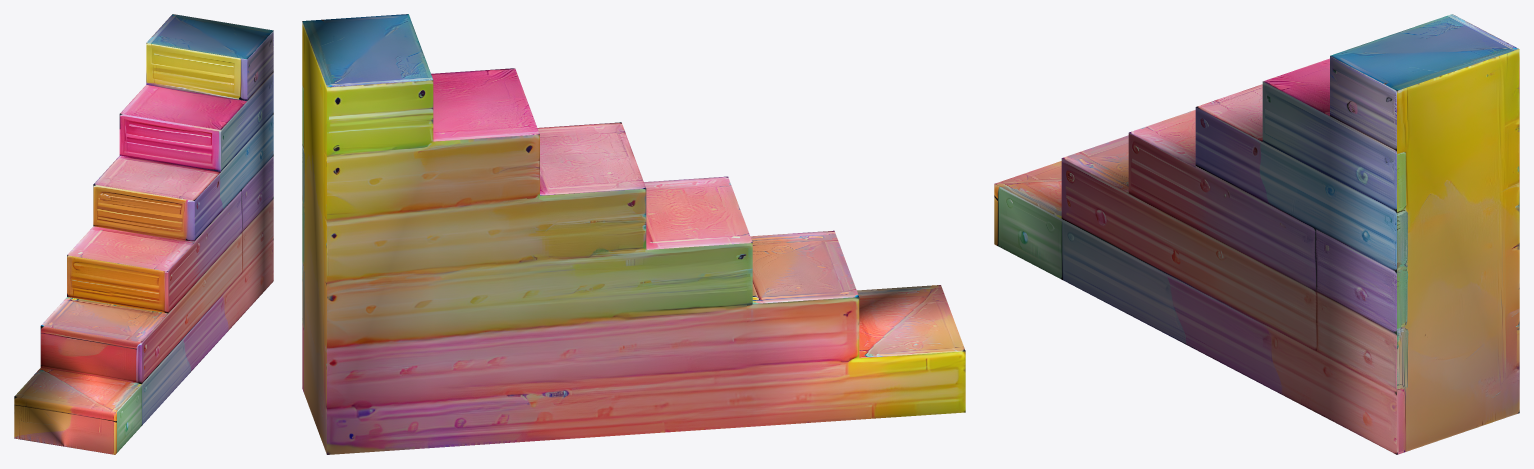
Rendered from stairs1.glb.
3 renders of one model, left to right at view 1: azimuth 30°, elevation 25°; view 2: azimuth 150°, elevation 25°; view 3: azimuth 270°, elevation 25°, orthographic. The views are drawn at different scales.
Bounding box in the file's own units: 12.06 × 8.11 × 10.6.
1 material, 1 textured.
